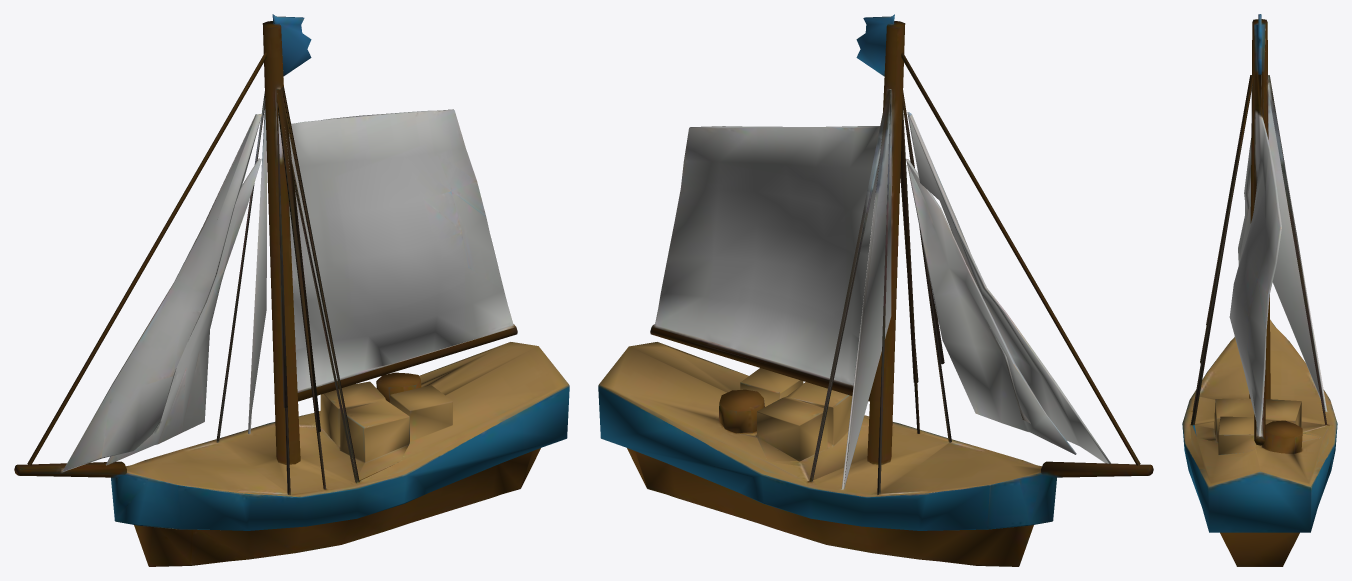
File: tripo.glb
The picture shows the model from 3 angles, left to right: view 1: azimuth 30°, elevation 25°; view 2: azimuth 150°, elevation 25°; view 3: azimuth 270°, elevation 25°; orthographic projection. The views are drawn at different scales.
Parts seen in each view (by area): view 1: tripo_node_73081edd-7b37-4ae2-8f65-0cf03023b507; view 2: tripo_node_73081edd-7b37-4ae2-8f65-0cf03023b507; view 3: tripo_node_73081edd-7b37-4ae2-8f65-0cf03023b507.
Boxes of the visible parts, x1,y1,x2,y2 form: tripo_node_73081edd-7b37-4ae2-8f65-0cf03023b507: (14,14,569,566); tripo_node_73081edd-7b37-4ae2-8f65-0cf03023b507: (598,14,1153,566); tripo_node_73081edd-7b37-4ae2-8f65-0cf03023b507: (1182,14,1337,566).
Bounding box in the file's own units: 1 × 0.953 × 0.2954.
1 material, 1 textured.
